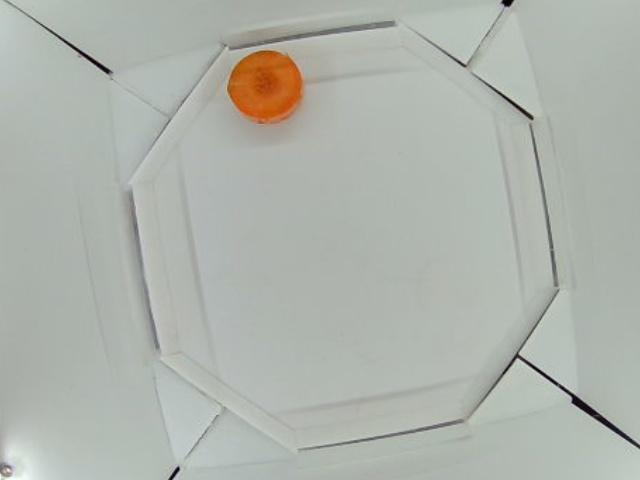Carrot: (227, 51, 304, 122)
